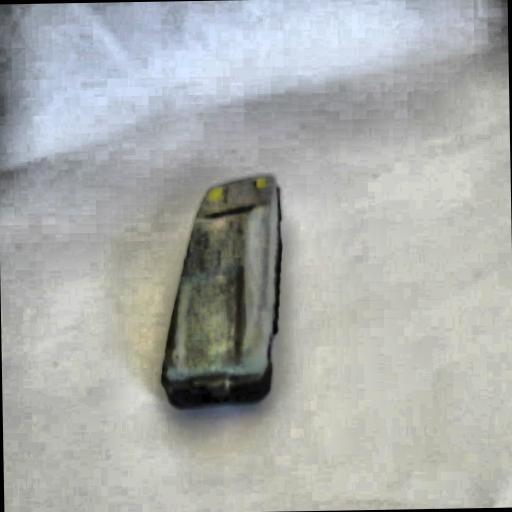normal_car: (152, 172, 289, 414)
